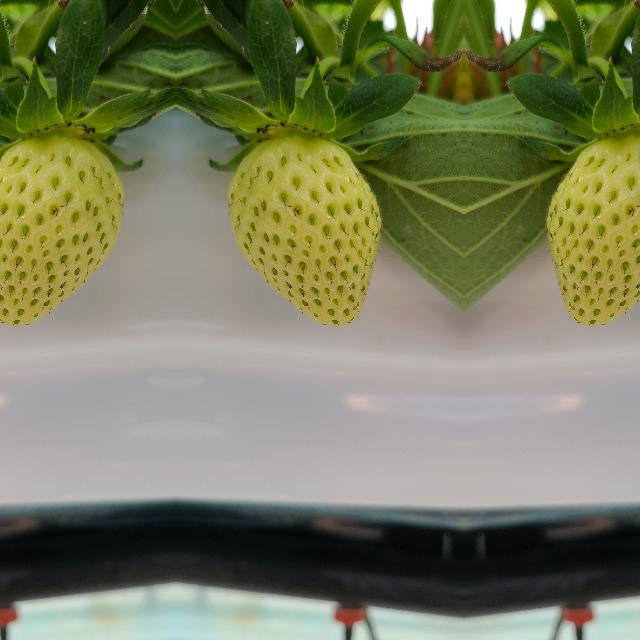Health_25: (227, 134, 386, 326), (0, 134, 123, 326), (540, 134, 640, 326)
